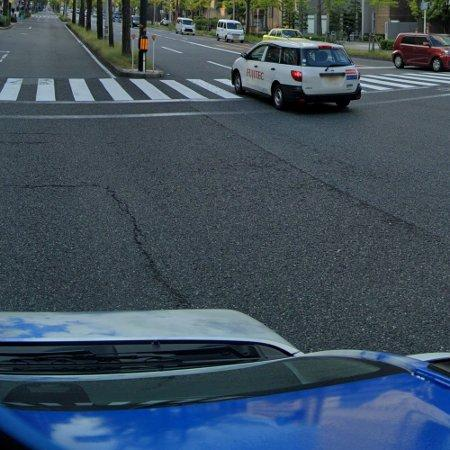crosswalks: (0, 77, 242, 102)
